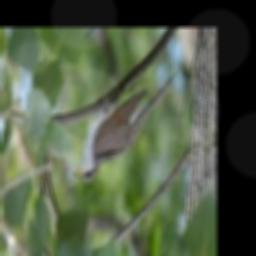Cuckoo: (72, 67, 181, 184)
